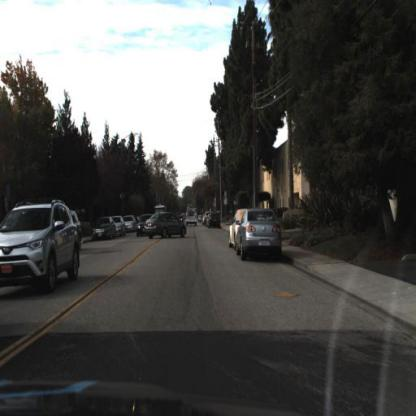car: (1, 201, 81, 289), (237, 210, 284, 259), (140, 211, 189, 248), (146, 213, 188, 241), (88, 213, 118, 246), (92, 217, 116, 241), (183, 205, 203, 232), (134, 214, 151, 241), (206, 211, 223, 232), (126, 214, 140, 237), (116, 212, 127, 241)
truck: (186, 205, 200, 228), (155, 202, 169, 219)
